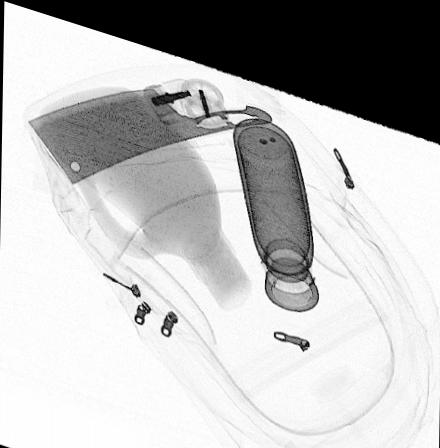Knife: (27, 77, 273, 181)
